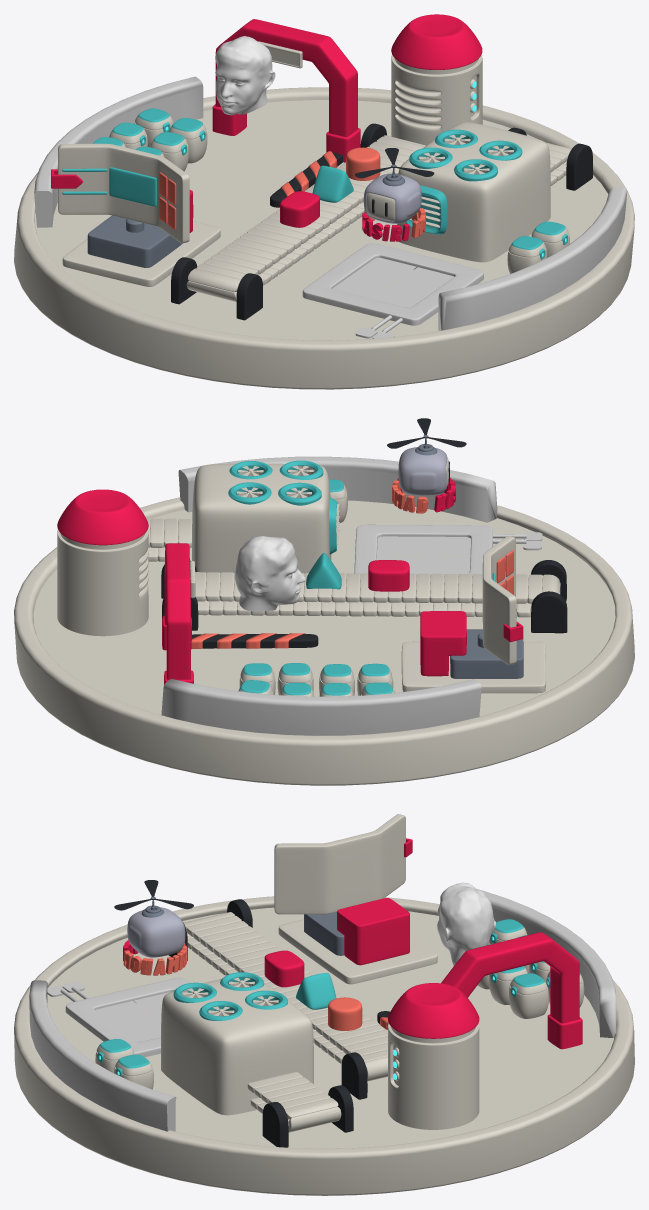
File: bots.glb
The picture shows the model from 3 angles, top to bottom: view 1: azimuth 30°, elevation 25°; view 2: azimuth 150°, elevation 25°; view 3: azimuth 270°, elevation 25°; orthographic projection.
Parts seen in each view (by area): view 1: Platform, ProductionLine, MetallicObjects, Computer, FloorItems, Boxes, HoloBot, Main_Bot, Text; view 2: Platform, ProductionLine, MetallicObjects, Computer, FloorItems, Boxes, HoloBot, Main_Bot, Text, Main_Bot_Blade; view 3: Platform, ProductionLine, Computer, MetallicObjects, FloorItems, Boxes, HoloBot, Main_Bot, Text.
Part boxes in pixels (x1,y1,x2,y2): Platform: (14, 87, 634, 389); ProductionLine: (171, 14, 592, 320); MetallicObjects: (34, 76, 627, 338); Computer: (51, 143, 220, 286); FloorItems: (212, 19, 360, 207); Boxes: (93, 108, 569, 273); HoloBot: (215, 36, 275, 115); Main_Bot: (363, 164, 421, 223); Text: (362, 208, 425, 241); Platform: (14, 497, 634, 785); ProductionLine: (57, 460, 567, 636); MetallicObjects: (161, 456, 542, 735); Computer: (401, 536, 545, 693); FloorItems: (162, 543, 318, 684); Boxes: (238, 479, 394, 696); HoloBot: (235, 536, 305, 611); Main_Bot: (398, 435, 449, 495); Text: (392, 477, 455, 513); Main_Bot_Blade: (387, 418, 466, 448); Platform: (14, 896, 634, 1195); ProductionLine: (161, 899, 479, 1147); Computer: (274, 814, 437, 984); MetallicObjects: (29, 883, 616, 1131); FloorItems: (377, 932, 582, 1049); Boxes: (95, 919, 584, 1089); HoloBot: (437, 882, 496, 963); Main_Bot: (127, 896, 185, 957); Text: (123, 940, 186, 975).
Bounding box in the file's own units: 8.68 × 2.64 × 8.64.
